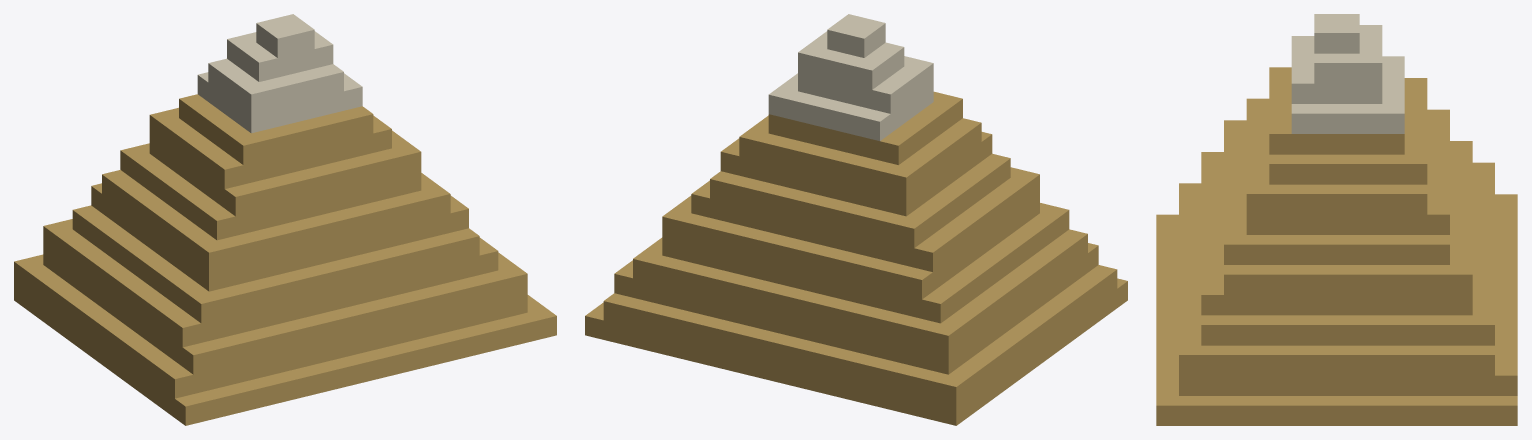
File: education-19.glb
The picture shows the model from 3 angles, left to right: view 1: azimuth 30°, elevation 25°; view 2: azimuth 150°, elevation 25°; view 3: azimuth 270°, elevation 25°; orthographic projection. The views are drawn at different scales.
Parts seen in each view (by area): view 1: Geometric solids; view 2: Geometric solids; view 3: Geometric solids.
Part boxes in pixels (<box>): Geometric solids: <box>14,14,556,425</box>; Geometric solids: <box>585,14,1127,425</box>; Geometric solids: <box>1156,14,1517,425</box>.
Size of the model in its own units: 1.6 by 1.2 by 1.28.
